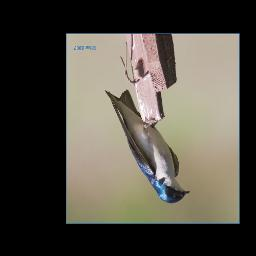Swallow: (103, 88, 191, 204)
